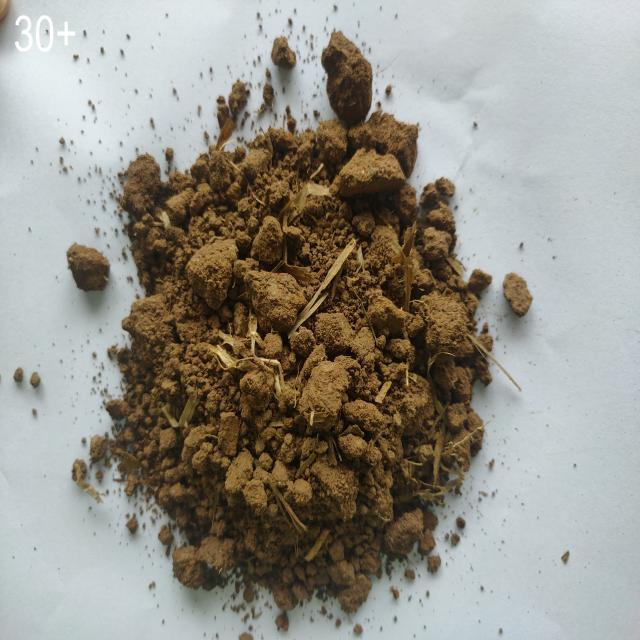soil: (171, 189, 417, 496)
